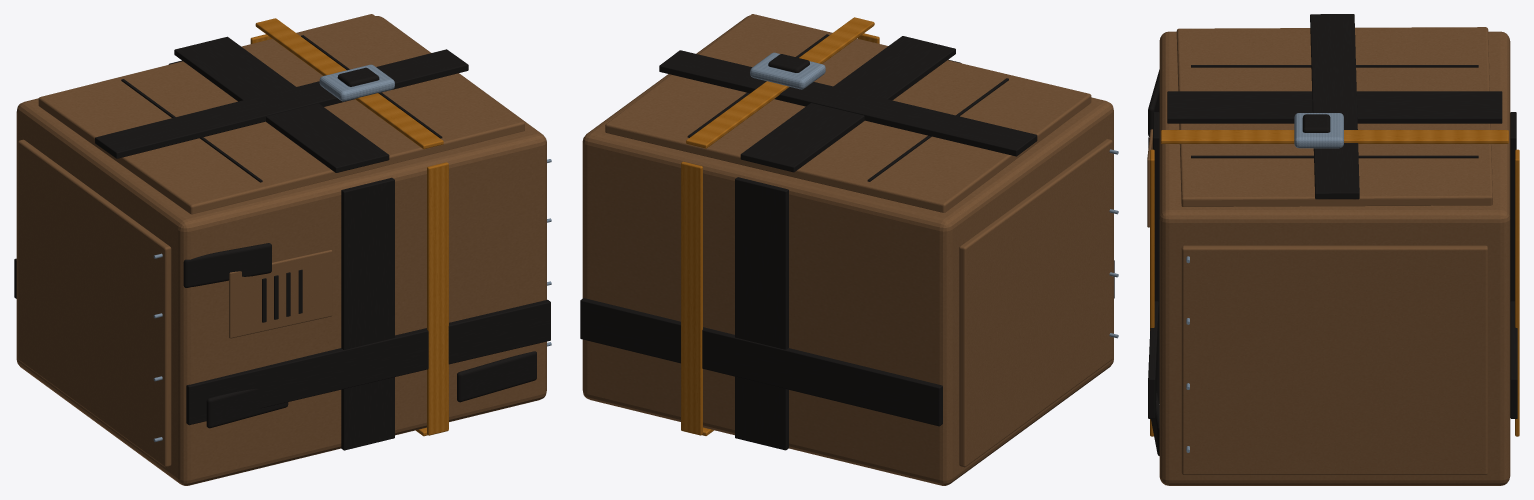
File: colis-perdu-premium.glb
3 renders of one model, left to right at view 1: azimuth 30°, elevation 25°; view 2: azimuth 150°, elevation 25°; view 3: azimuth 270°, elevation 25°, orthographic. The views are drawn at different scales.
Parts seen in each view (by area): view 1: Corps carton, Épaisseur carton latérale, Rabat supérieur, Ruban horizontal avant, Ruban vertical avant, Ruban sommet long, Ruban sommet large, Étiquette usée, Sangle avant, Sangle dessus, Patch ruban, Patch ruban.001 (+2 smaller); view 2: Corps carton, Épaisseur carton latérale, Rabat supérieur, Ruban horizontal arrière, Ruban vertical arrière, Ruban sommet large, Ruban sommet long, Sangle arrière, Sangle dessus, Boucle extérieure; view 3: Épaisseur carton latérale.001, Rabat supérieur, Corps carton, Ruban sommet long, Ruban sommet large, Sangle dessus, Ruban vertical avant, Boucle extérieure, Sangle arrière, Ruban vertical arrière, Pli rabat droit, Ruban horizontal avant (+5 smaller).
Part boxes in pixels (x1,y1,x2,y2): Corps carton: (16, 16, 546, 485); Épaisseur carton latérale: (18, 139, 171, 467); Rabat supérieur: (38, 14, 524, 214); Ruban horizontal avant: (186, 299, 550, 425); Ruban vertical avant: (341, 177, 394, 450); Ruban sommet long: (174, 36, 389, 172); Ruban sommet large: (95, 49, 468, 158); Étiquette usée: (229, 250, 332, 338); Sangle avant: (427, 162, 448, 435); Sangle dessus: (255, 18, 443, 149); Patch ruban: (183, 243, 271, 287); Patch ruban.001: (457, 351, 536, 402); Corps carton: (582, 15, 1113, 485); Épaisseur carton latérale: (959, 139, 1112, 467); Rabat supérieur: (605, 14, 1091, 212); Ruban horizontal arrière: (580, 298, 942, 426); Ruban vertical arrière: (735, 177, 788, 450); Ruban sommet large: (659, 50, 1037, 156); Ruban sommet long: (740, 36, 955, 172); Sangle arrière: (681, 161, 702, 435); Sangle dessus: (686, 17, 874, 148); Boucle extérieure: (750, 52, 825, 89); Épaisseur carton latérale.001: (1181, 245, 1487, 475); Rabat supérieur: (1176, 27, 1492, 206); Corps carton: (1159, 31, 1510, 485); Ruban sommet long: (1167, 91, 1502, 123); Ruban sommet large: (1310, 14, 1359, 199); Sangle dessus: (1161, 130, 1508, 143); Ruban vertical avant: (1153, 112, 1159, 404); Boucle extérieure: (1294, 113, 1343, 148); Sangle arrière: (1515, 149, 1519, 436); Ruban vertical arrière: (1510, 112, 1516, 301); Pli rabat droit: (1191, 155, 1478, 158); Ruban horizontal avant: (1148, 301, 1158, 418).
Bounding box in the file's own units: 3.62 × 2.66 × 2.85.
4 materials, 4 textured.
